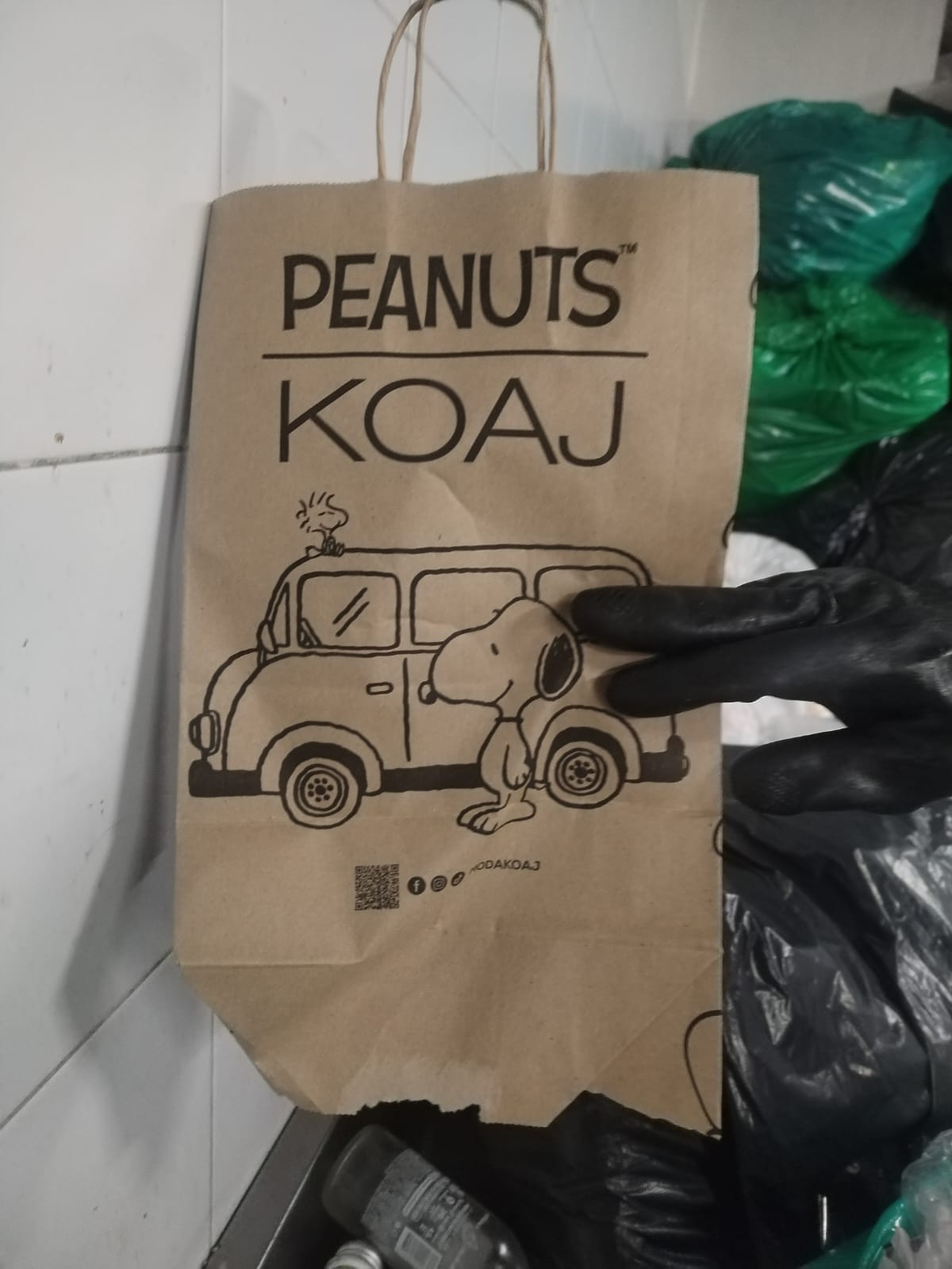Carton: (179, 170, 763, 1142)
